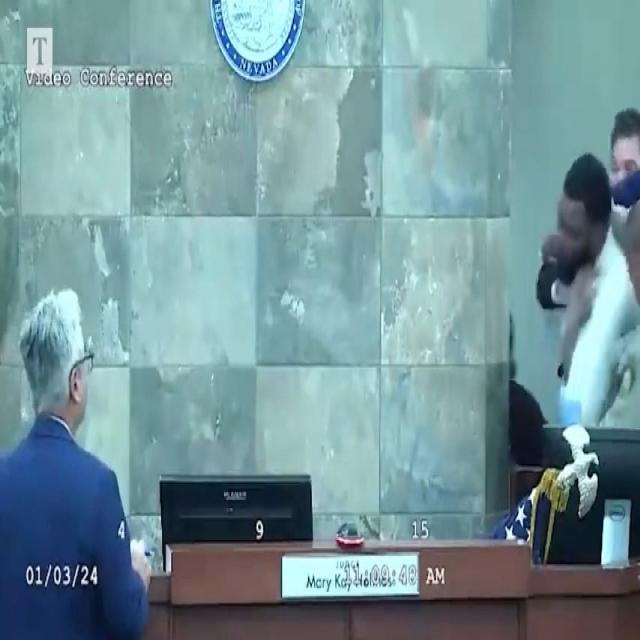fight: (529, 94, 640, 456)
non-fight: (0, 277, 150, 640)
